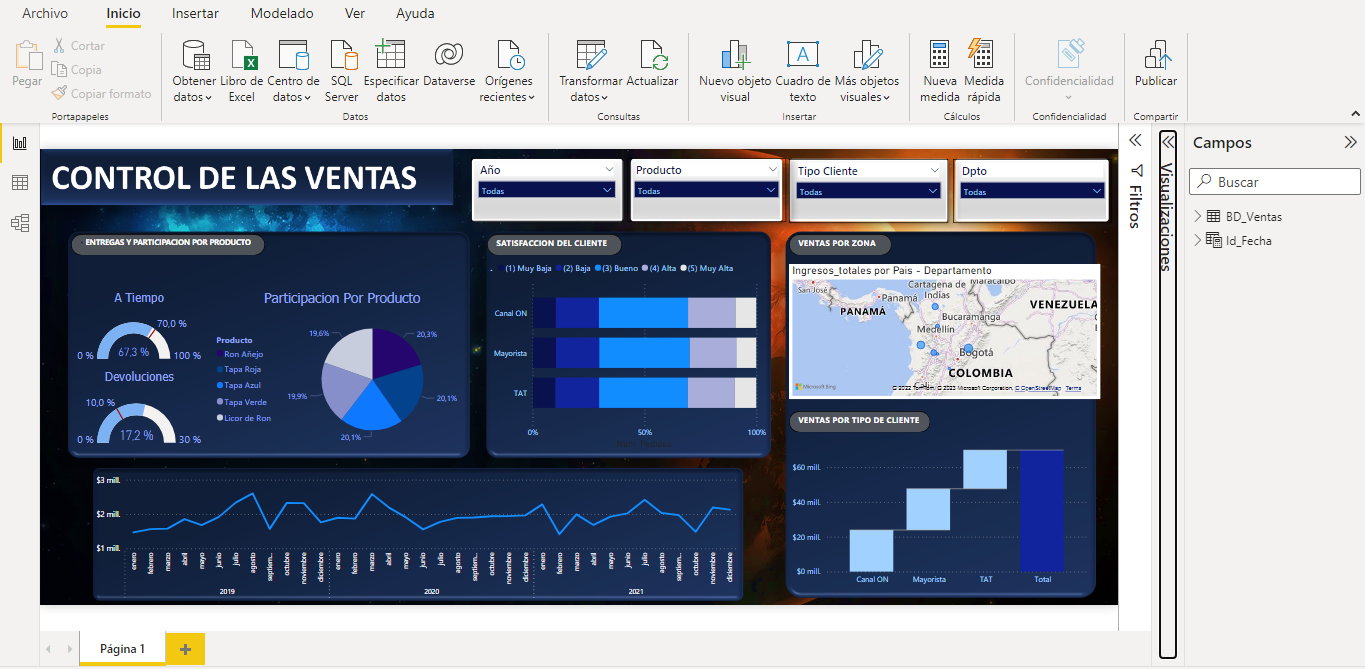

What the dashboard file says about the page in this screenshot:
{"tool":"powerbi","page":{"name":"Página 1","canvas":[1700,720],"ordinal":0},"visuals":[{"type":"gauge","title":"A Tiempo","fields":{"Y":["BD_Ventas.Porcentaje_Pedidos_A_Tiempo"]},"box":[49.4,221.8,214.9,125.3],"z":0},{"type":"pieChart","title":"Participacion Por Producto","fields":{"Y":["BD_Ventas.Num_Pedidos"],"Category":["BD_Ventas.Producto"]},"box":[272.4,221.8,406.9,257.5],"z":1000},{"type":"gauge","title":"Devoluciones","fields":{"Y":["BD_Ventas.Porcentaje_Pedidos_Devueltos"]},"box":[49.4,347.1,214.9,132.2],"z":2000},{"type":"hundredPercentStackedBarChart","fields":{"Y":["BD_Ventas.Num_Pedidos"],"Series":["BD_Ventas.Calificación del cliente"],"Category":["BD_Ventas.Tipo Cliente"]},"box":[705.7,167.9,445.3,311.3],"z":3000},{"type":"lineChart","fields":{"Category":["Id_Fecha.Date.Variación.Jerarquía de fechas.Año","Id_Fecha.Date.Variación.Jerarquía de fechas.Mes"],"Y":["Id_Fecha.Ingresos_totales"]},"box":[84.1,508.2,1020,212],"z":4000},{"type":"waterfallChart","fields":{"Y":["Id_Fecha.Ingresos_totales"],"Category":["BD_Ventas.Tipo Cliente"]},"box":[1181.1,460.4,477.4,235.8],"z":5000},{"type":"map","fields":{"Size":["Id_Fecha.Ingresos_totales"],"Category":["BD_Ventas.Pais - Departamento"]},"box":[1181.1,181.1,490.6,213.2],"z":6000},{"type":"slicer","fields":{"Values":["Id_Fecha.Date.Variación.Jerarquía de fechas.Año"]},"box":[679.8,14.6,239,100],"z":7000},{"type":"slicer","fields":{"Values":["BD_Ventas.Producto"]},"box":[925.6,14.6,251,101],"z":8000},{"type":"slicer","fields":{"Values":["BD_Ventas.Tipo Cliente"]},"box":[1180.9,15.7,250.6,101],"z":9000},{"type":"slicer","fields":{"Values":["BD_Ventas.Dpto"]},"box":[1440.2,15.9,251,101],"z":10000},{"type":"shape","box":[49.1,134,305.7,34],"z":11000},{"type":"textbox","box":[49.4,133.3,360.9,33.3],"z":12000},{"type":"shape","box":[705.7,134,213.2,34],"z":13000},{"type":"shape","box":[1181.1,134,162.3,34],"z":14000},{"type":"shape","box":[1181.1,413.2,222.6,34],"z":15000},{"type":"textbox","box":[715.1,134,203.8,34],"z":16000},{"type":"textbox","box":[1190.6,134,203.8,34],"z":17000},{"type":"textbox","box":[1190.6,413.2,230.2,34],"z":18000}]}

Visuals, with their boxes on the page's 1700x720 design canvas (x1, y1, x2, y2). These are canvas units, not pixel positions in the 1365x669 screenshot, which may show the page scaled, cropped or inside an application window:
"A Tiempo" gauge: BBox(49, 222, 264, 347)
"Participacion Por Producto" pieChart: BBox(272, 222, 679, 479)
"Devoluciones" gauge: BBox(49, 347, 264, 479)
hundredPercentStackedBarChart - BD_Ventas.Num_Pedidos x BD_Ventas.Calificación del cliente: BBox(706, 168, 1151, 479)
lineChart - Id_Fecha.Date.Variación.Jerarquía de fechas.Año x Id_Fecha.Date.Variación.Jerarquía de fechas.Mes: BBox(84, 508, 1104, 720)
waterfallChart - Id_Fecha.Ingresos_totales x BD_Ventas.Tipo Cliente: BBox(1181, 460, 1658, 696)
map - Id_Fecha.Ingresos_totales x BD_Ventas.Pais - Departamento: BBox(1181, 181, 1672, 394)
slicer - Id_Fecha.Date.Variación.Jerarquía de fechas.Año: BBox(680, 15, 919, 115)
slicer - BD_Ventas.Producto: BBox(926, 15, 1177, 116)
slicer - BD_Ventas.Tipo Cliente: BBox(1181, 16, 1432, 117)
slicer - BD_Ventas.Dpto: BBox(1440, 16, 1691, 117)
shape: BBox(49, 134, 355, 168)
textbox: BBox(49, 133, 410, 167)
shape: BBox(706, 134, 919, 168)
shape: BBox(1181, 134, 1343, 168)
shape: BBox(1181, 413, 1404, 447)
textbox: BBox(715, 134, 919, 168)
textbox: BBox(1191, 134, 1394, 168)
textbox: BBox(1191, 413, 1421, 447)
